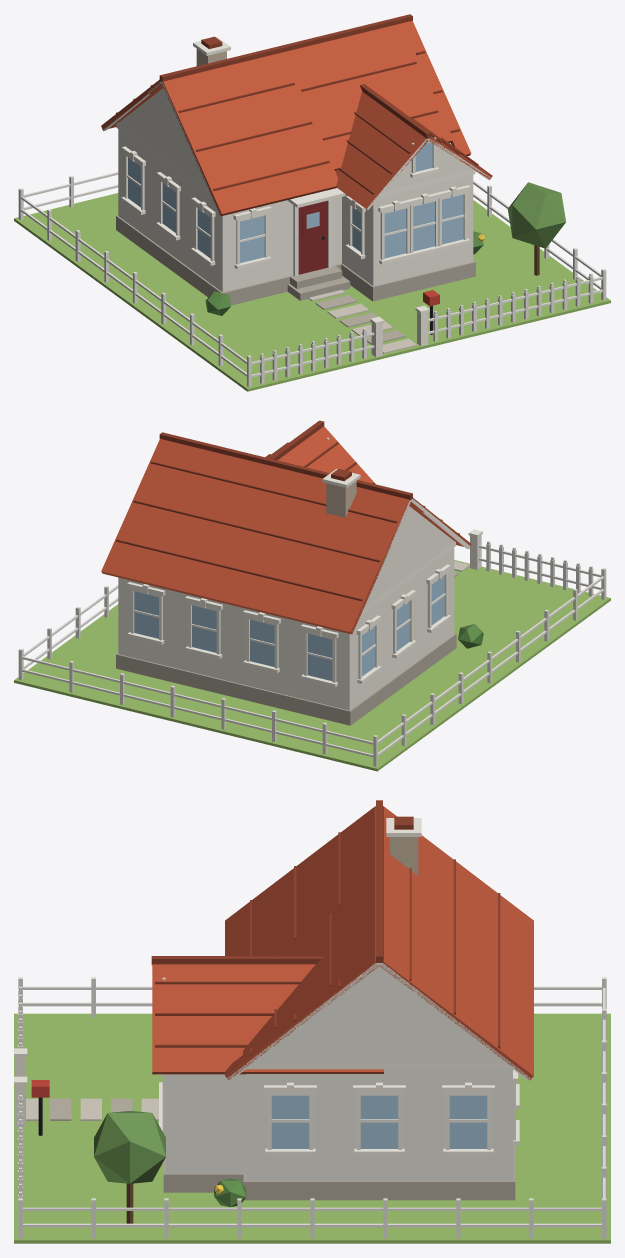
The model's file is MustakilEv_avrupa_1_1_Hafif.fbx.
3 renders of one model, top to bottom at view 1: azimuth 30°, elevation 25°; view 2: azimuth 150°, elevation 25°; view 3: azimuth 270°, elevation 25°, orthographic. The views are drawn at different scales.
Parts seen in each view (by area): view 1: MustakilEv_avrupa_1_1_Hafif; view 2: MustakilEv_avrupa_1_1_Hafif; view 3: MustakilEv_avrupa_1_1_Hafif.
Part boxes in pixels (box(x1,y1,x2,y2)): MustakilEv_avrupa_1_1_Hafif: box(14, 14, 610, 391); MustakilEv_avrupa_1_1_Hafif: box(14, 420, 610, 771); MustakilEv_avrupa_1_1_Hafif: box(14, 800, 610, 1243).
Size of the model in its own units: 12.04 by 6.67 by 13.4.
